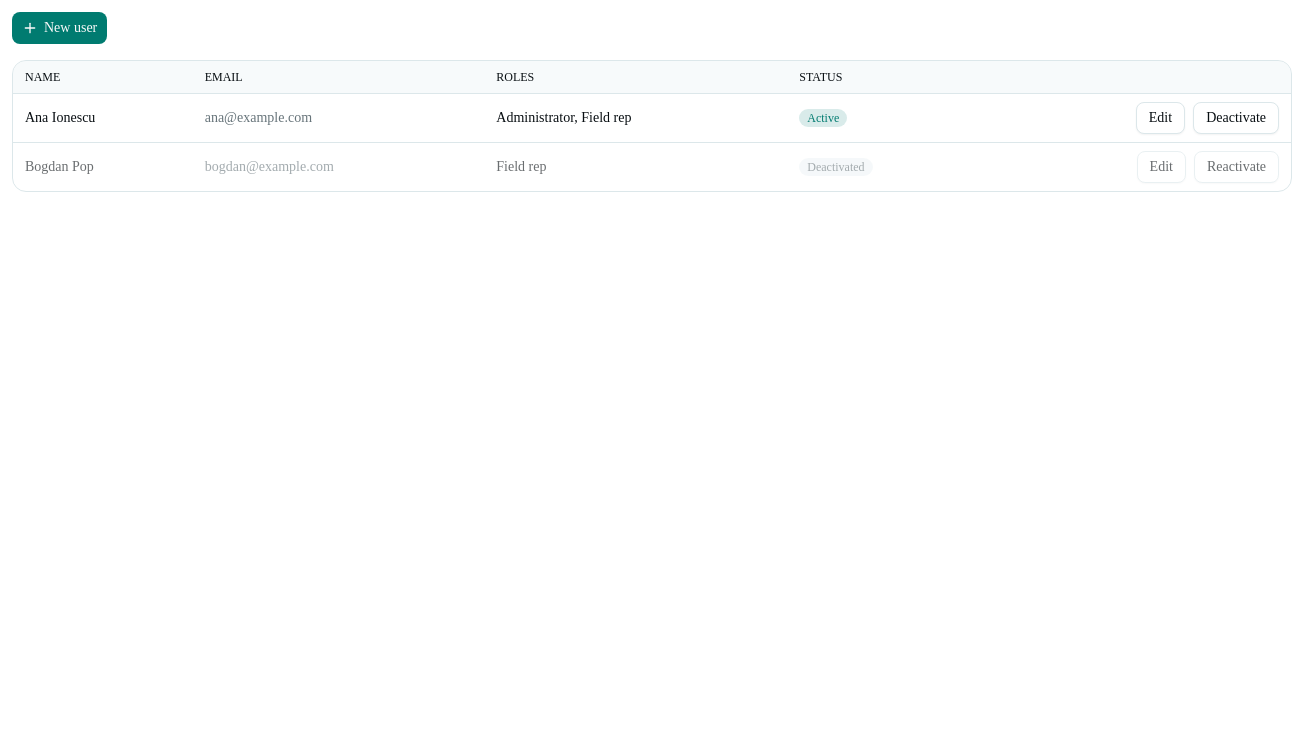
Test: <UserBrowser> › will not let the subject id be changed on an existing user
Expected: the table is shown, [13, 61, 1291, 191]
Click the button with aria-label "Edit Ana Ionescu" at (1160, 118), box [1136, 102, 1185, 134]
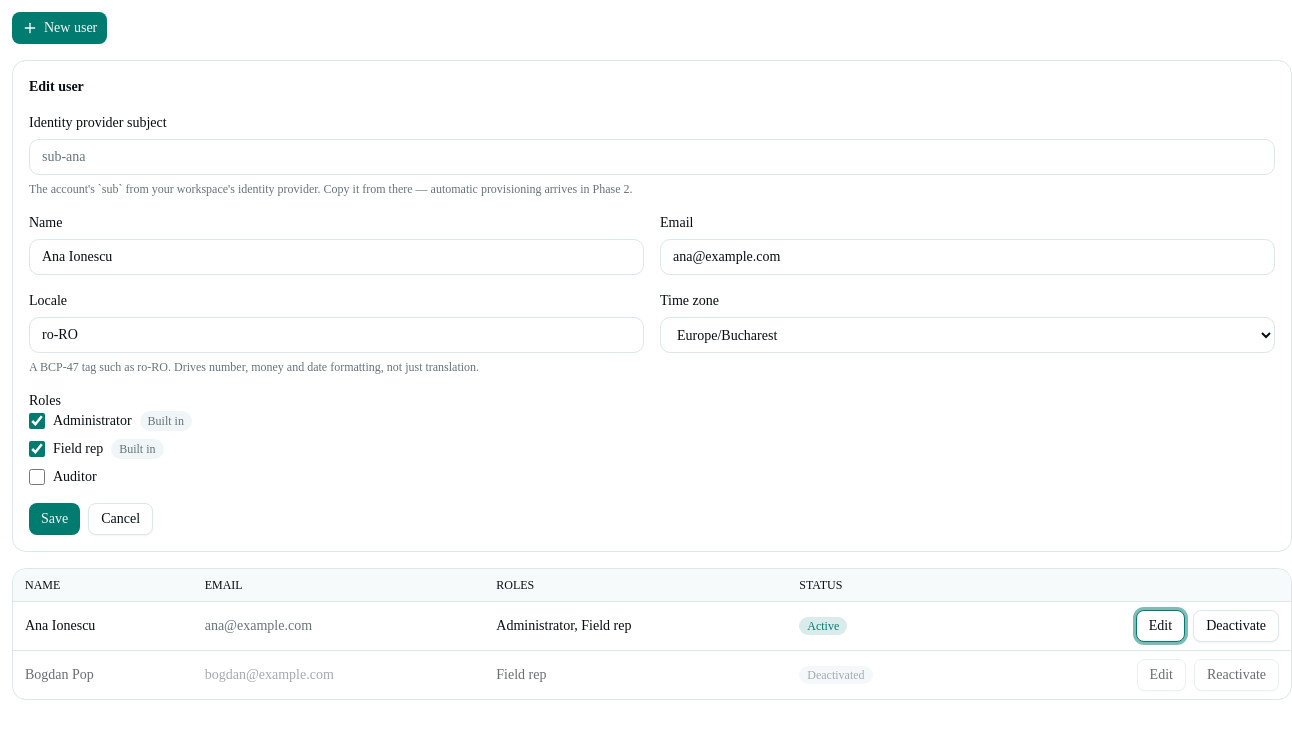
Expected: the field labelled "Identity provider subject" holds "sub-ana", [29, 139, 1275, 175]
